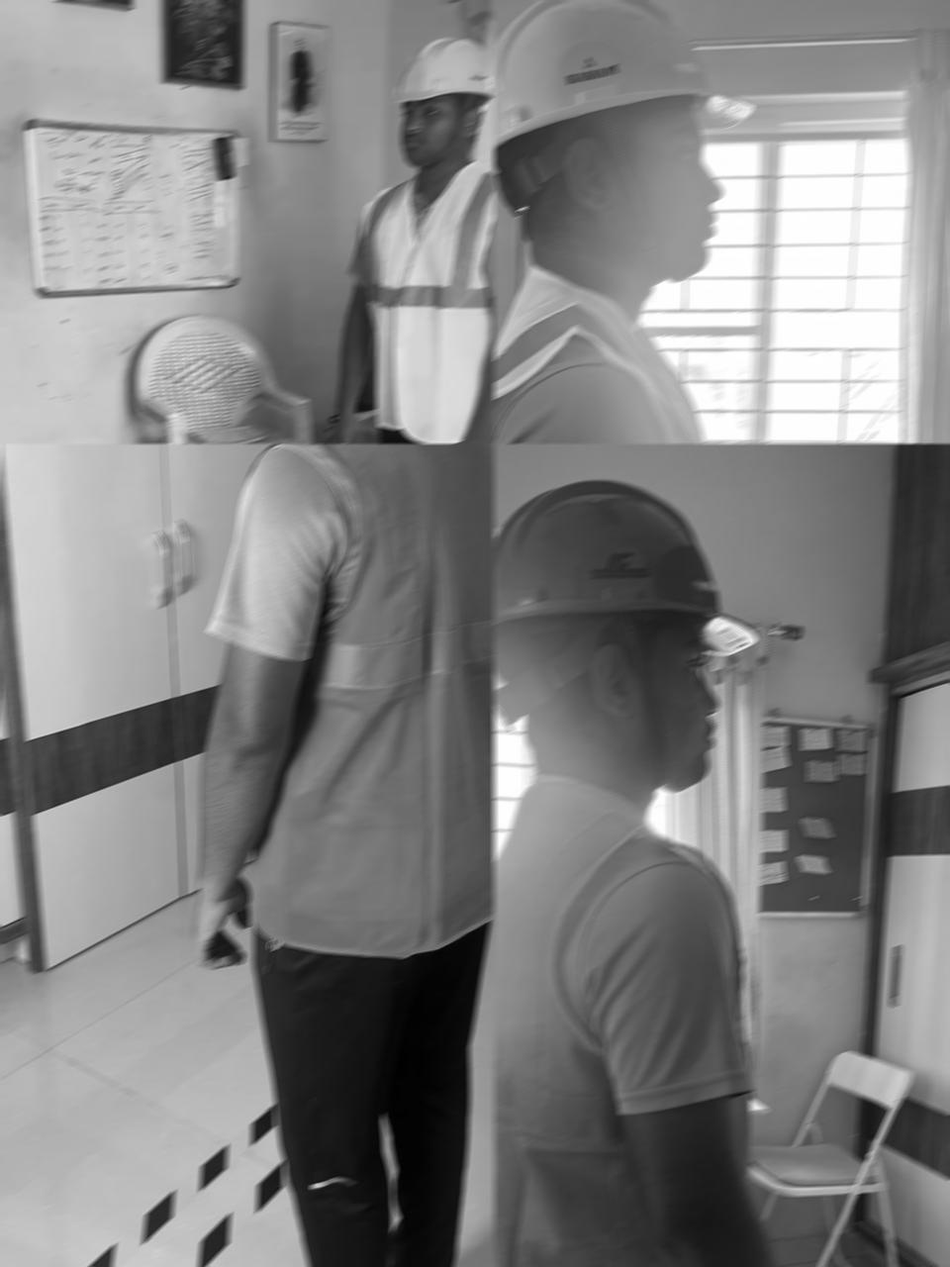BorderLine: (0, 1102, 286, 1267)
Helmet: (493, 476, 759, 783), (493, 0, 751, 161), (389, 37, 495, 105)
Person: (493, 476, 840, 1267), (190, 443, 495, 1267), (493, 0, 764, 443), (332, 35, 495, 443)
Vest: (238, 443, 495, 959), (493, 772, 756, 1267), (493, 262, 761, 443), (361, 160, 495, 443)
